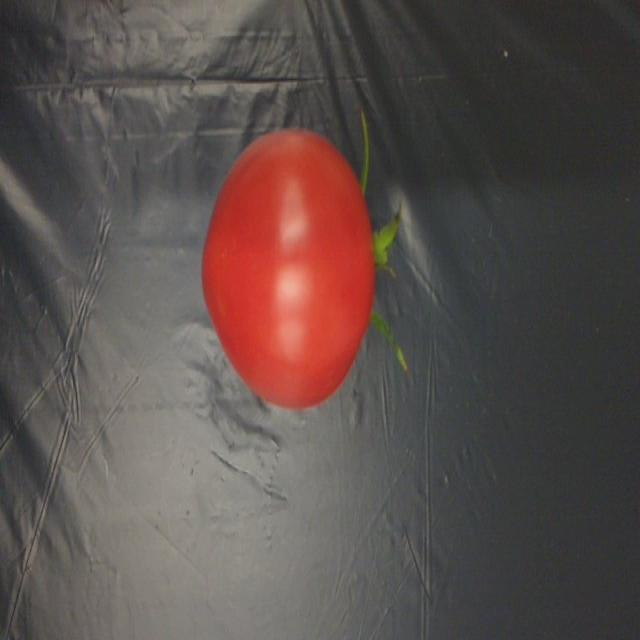kirmizi: (191, 126, 400, 417)
